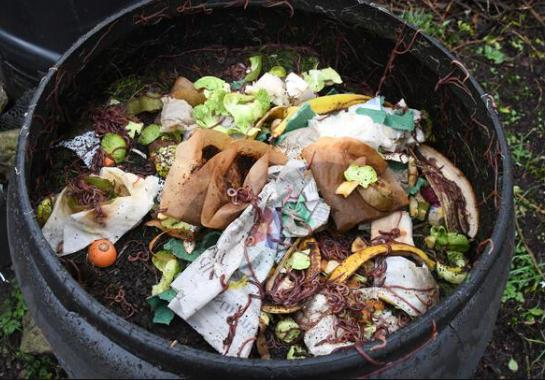organic: (45, 46, 484, 366)
